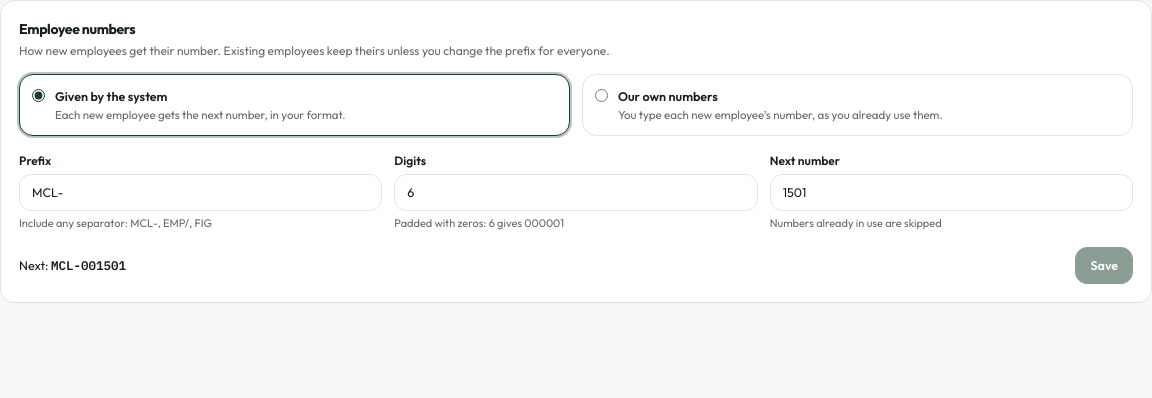
Test: changing the prefix for everyone › offers to renumber existing employees when the prefix changes, and does it before saving
Later steps or results of the test are not shown.
Expected: the text "Also change existing employees" is not shown
Replace the text in the field labelled "Prefix Include any separator: MCL-, EMP/, FIG" with "FBL-" at (201, 192), box [19,174,382,211]
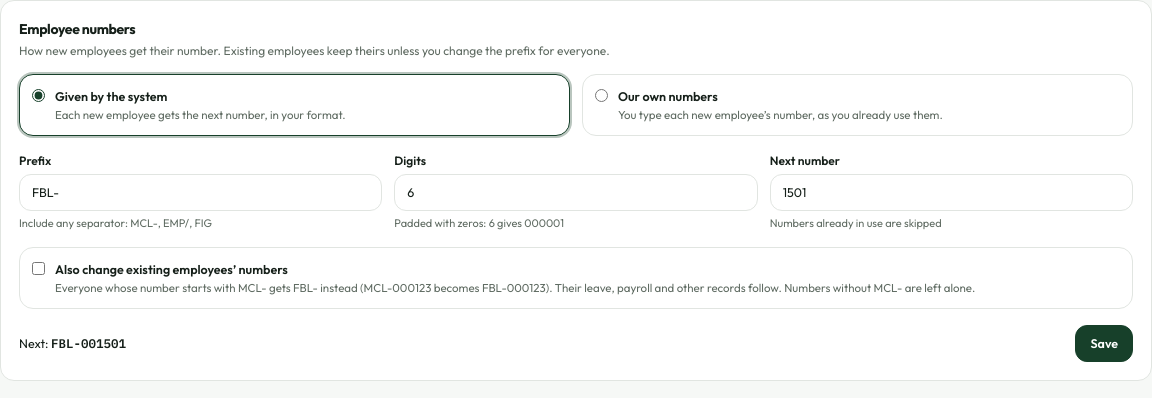
Expected: the text "MCL-000123 becomes FBL-000123" is shown, [55,279,975,296]
